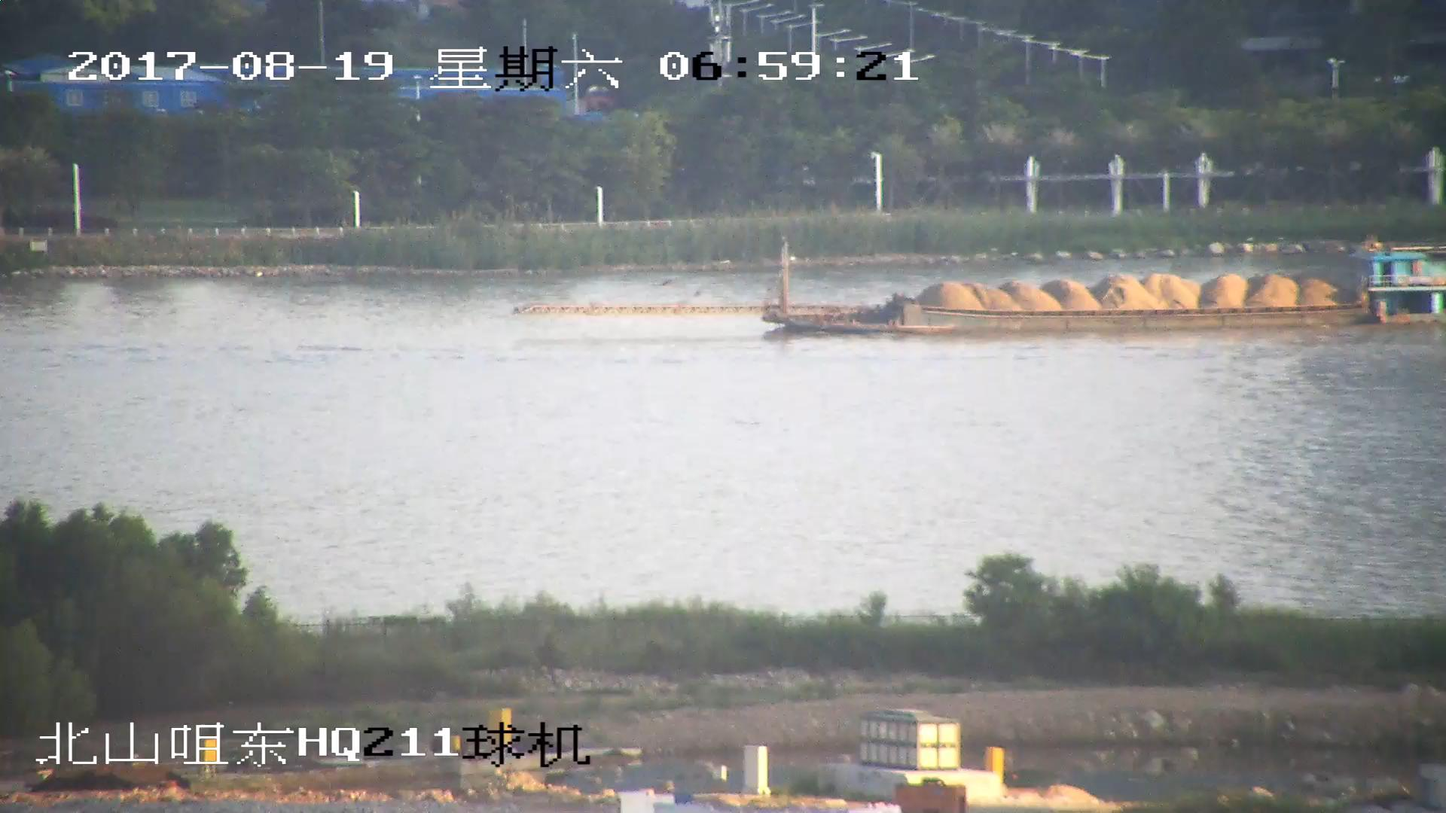ore carrier: (517, 242, 1445, 334)
